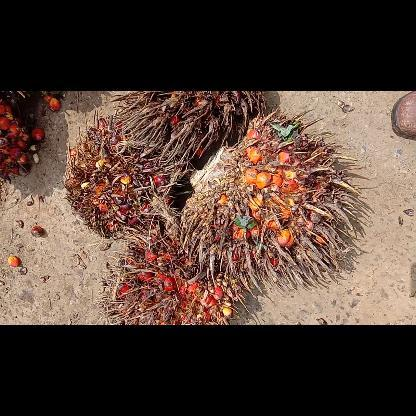Terlalu masak: (176, 104, 368, 298), (59, 106, 189, 242), (98, 224, 242, 324), (106, 90, 270, 170)
